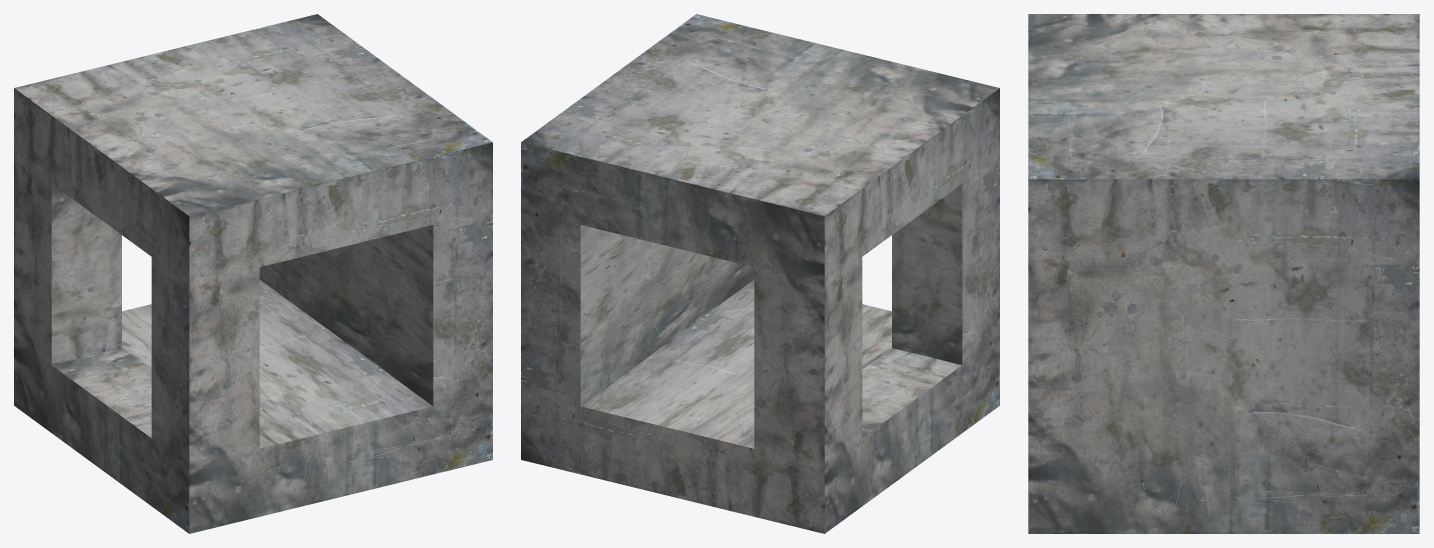
File: Lueftungsschacht_04.fbx
3 views of the same model, side by side, from view 1: azimuth 30°, elevation 25°; view 2: azimuth 150°, elevation 25°; view 3: azimuth 270°, elevation 25° (orthographic). The views are drawn at different scales.
Visible parts, largest first — view 1: pCube25; view 2: pCube25; view 3: pCube25.
Boxes of the visible parts, box(x1,y1,x2,y2) form: pCube25: box(14, 14, 492, 533); pCube25: box(521, 14, 999, 533); pCube25: box(1028, 14, 1419, 533).
Size of the model in its own units: 17.5 by 17.5 by 17.5.
1 material, 1 textured.
